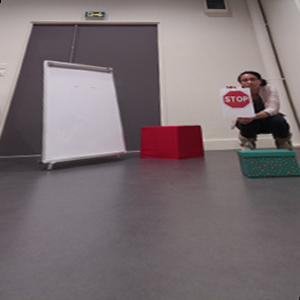big: (42, 59, 126, 168)
medium: (140, 124, 206, 161)
small: (237, 150, 299, 178)
